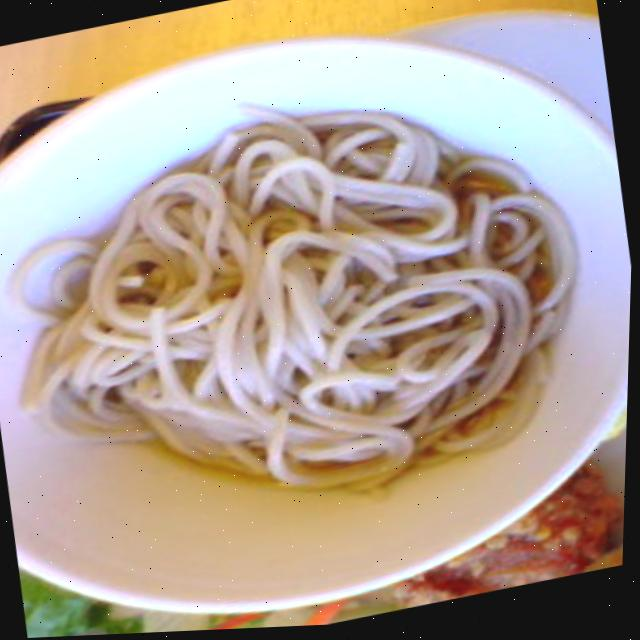面条主食: (0, 52, 567, 592)
